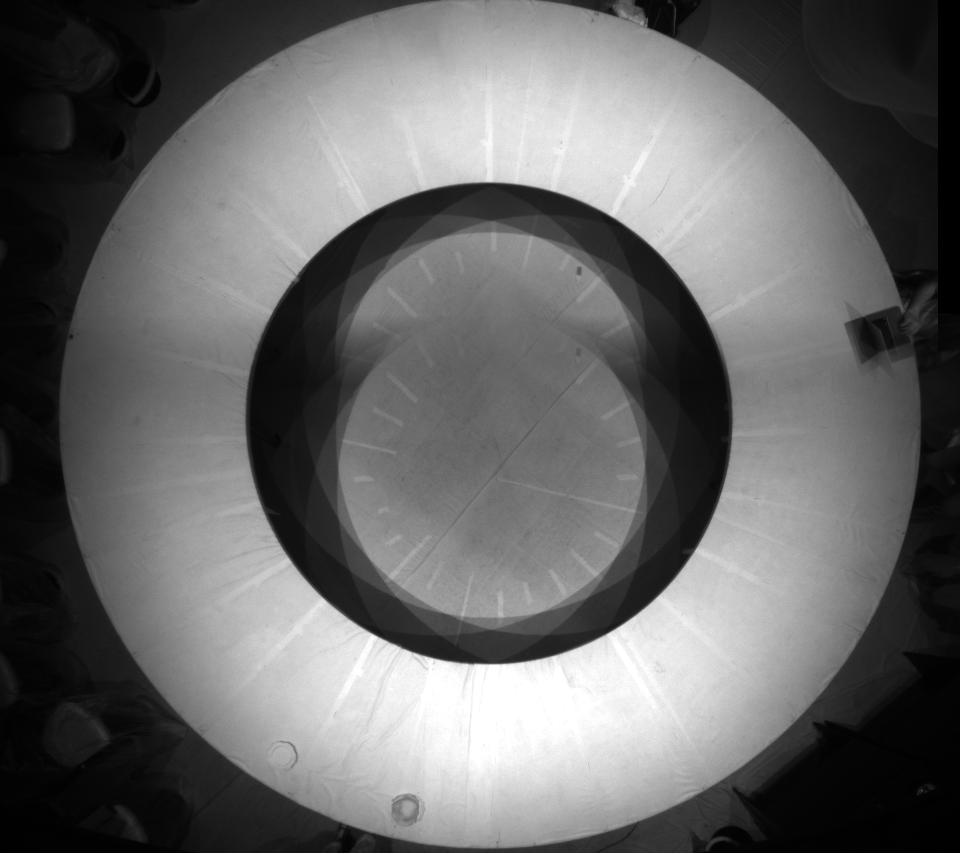Plate: (387, 789, 427, 828)
